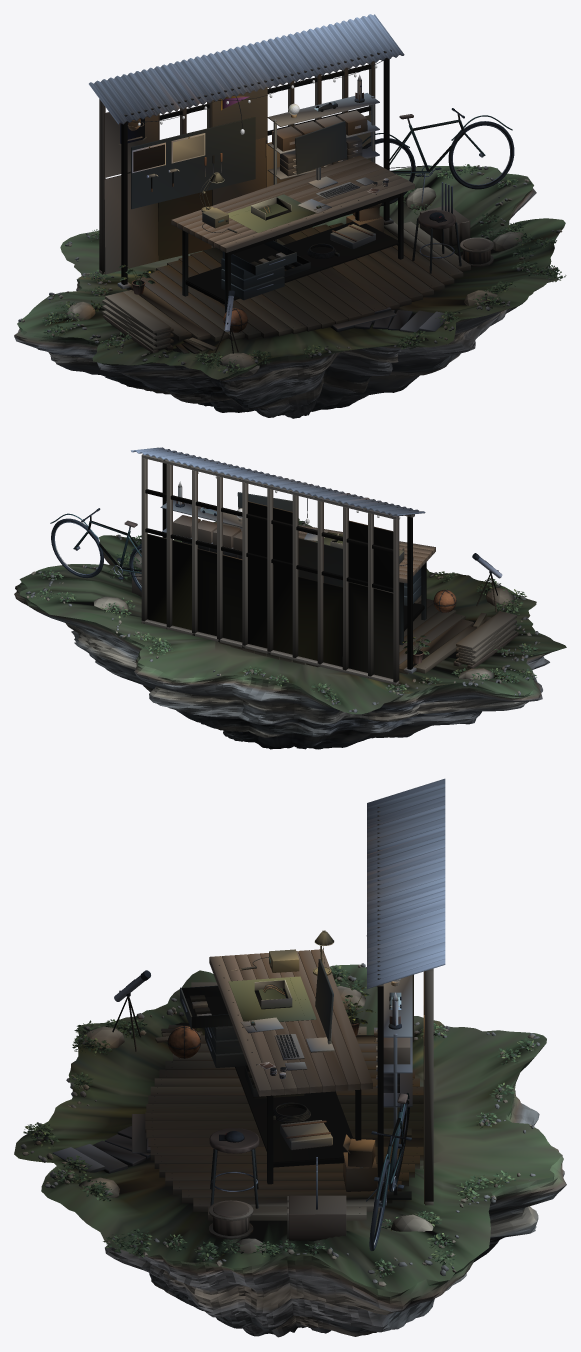
The model's file is flight-projects-87a560d3.glb.
3 renders of one model, top to bottom at view 1: azimuth 30°, elevation 25°; view 2: azimuth 150°, elevation 25°; view 3: azimuth 270°, elevation 25°, orthographic. The views are drawn at different scales.
Visible parts, largest first — view 1: Projects island · flight.001; view 2: Projects island · flight.001; view 3: Projects island · flight.001.
Boxes of the visible parts, bbox=[...] form: Projects island · flight.001: bbox=[14, 14, 566, 418]; Projects island · flight.001: bbox=[14, 447, 566, 749]; Projects island · flight.001: bbox=[14, 778, 566, 1337].
Size of the model in its own units: 12.18 by 7.15 by 8.18.
